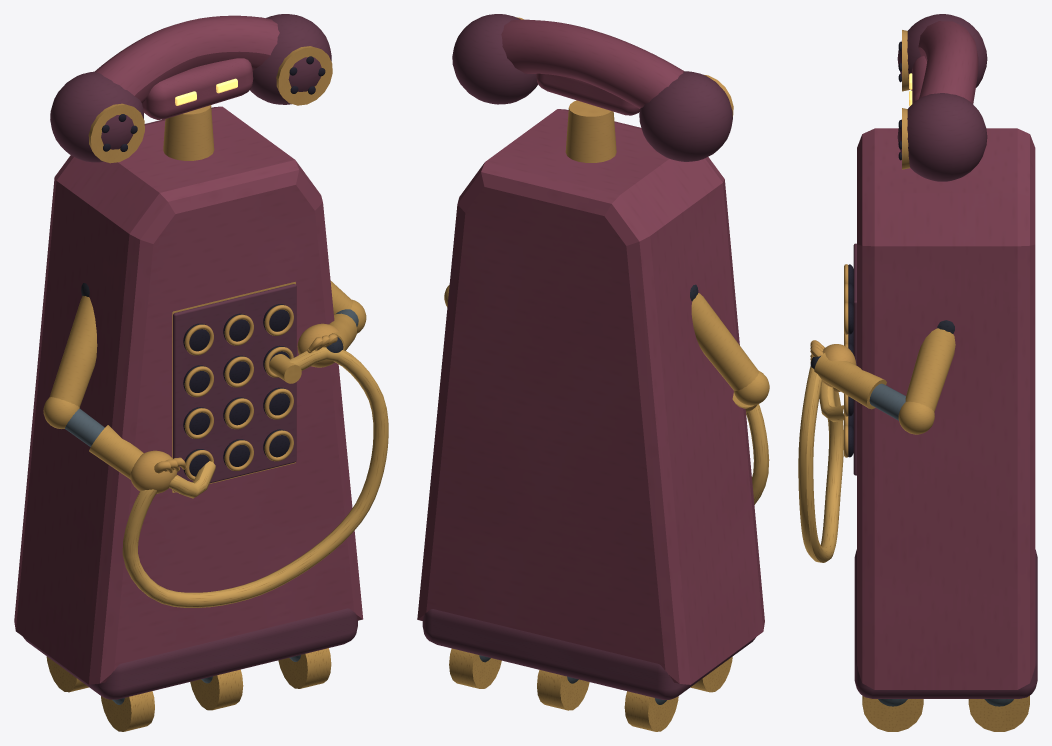
Rendered from spool.glb.
The picture shows the model from 3 angles, left to right: view 1: azimuth 30°, elevation 25°; view 2: azimuth 150°, elevation 25°; view 3: azimuth 270°, elevation 25°; orthographic projection. The views are drawn at different scales.
Parts seen in each view (by area): view 1: Tapered exchange cabinet, Panel insert, Braided patch cable, Rolling plinth, Receiver cup (×2), Curved handset, Caster (×4), Face bridge, Ear cap (×2), Upper link, Telescoping neck, Forearm sleeve (×2) (+4 smaller); view 2: Tapered exchange cabinet, Receiver cup (×2), Rolling plinth, Curved handset, Caster (×4), Upper link, Telescoping neck, Face bridge, Braided patch cable, Elbow bearing; view 3: Tapered exchange cabinet, Receiver cup (×2), Braided patch cable, Curved handset, Caster (×2), Rolling plinth, Upper link, Forearm sleeve, Elbow bearing, Forearm piston, Panel insert, Face bridge (+2 smaller).
Boxes of the visible parts, box(x1,y1,x2,y2) form: Tapered exchange cabinet: box(14, 106, 363, 684); Panel insert: box(173, 284, 296, 491); Braided patch cable: box(122, 347, 388, 607); Rolling plinth: box(23, 608, 357, 699); Receiver cup (×2): box(50, 14, 331, 162); Curved handset: box(95, 15, 279, 103); Caster (×4): box(46, 648, 331, 731); Face bridge: box(142, 58, 253, 119); Ear cap (×2): box(88, 46, 332, 163); Upper link: box(50, 296, 97, 406); Telescoping neck: box(163, 105, 214, 160); Forearm sleeve (×2): box(89, 313, 356, 479); Tapered exchange cabinet: box(417, 109, 764, 684); Receiver cup (×2): box(452, 14, 732, 161); Rolling plinth: box(422, 609, 755, 699); Curved handset: box(501, 19, 683, 108); Caster (×4): box(449, 648, 732, 731); Upper link: box(691, 293, 758, 390); Telescoping neck: box(565, 100, 616, 162); Face bridge: box(536, 73, 639, 115); Braided patch cable: box(746, 404, 769, 504); Elbow bearing: box(734, 371, 769, 405); Tapered exchange cabinet: box(857, 128, 1035, 689); Receiver cup (×2): box(897, 14, 987, 181); Braided patch cable: box(798, 365, 843, 562); Curved handset: box(918, 21, 978, 104); Caster (×2): box(862, 695, 1029, 731); Rolling plinth: box(854, 549, 1037, 698); Upper link: box(905, 328, 955, 411); Forearm sleeve: box(814, 353, 886, 409); Elbow bearing: box(898, 401, 934, 434); Forearm piston: box(869, 383, 905, 420); Panel insert: box(853, 243, 856, 475); Face bridge: box(912, 55, 926, 103).
Bounding box in the file's own units: 1.09 × 2.14 × 0.7195.
Materials: 13 (12 with a texture image).
